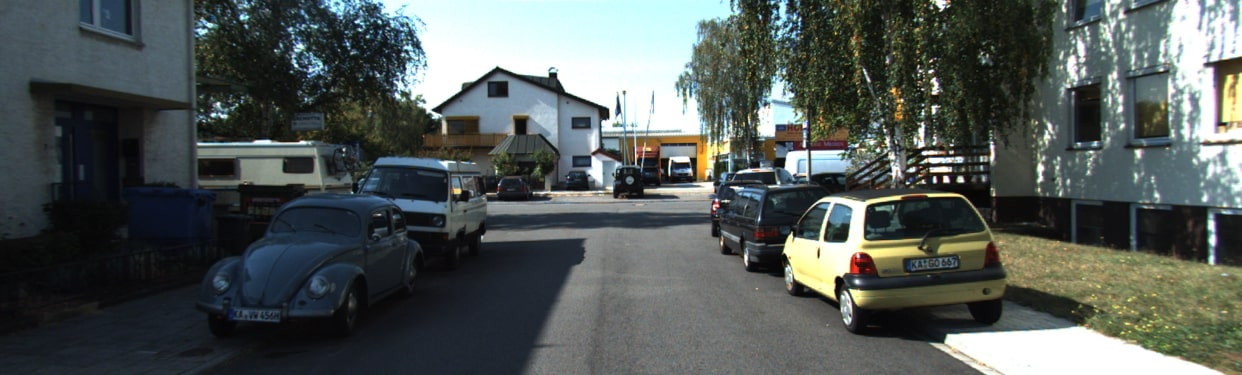car: (194, 195, 418, 346), (780, 180, 985, 324), (382, 155, 494, 255), (716, 178, 827, 276), (610, 164, 643, 205), (666, 151, 692, 188), (499, 178, 530, 197), (564, 171, 587, 192)
